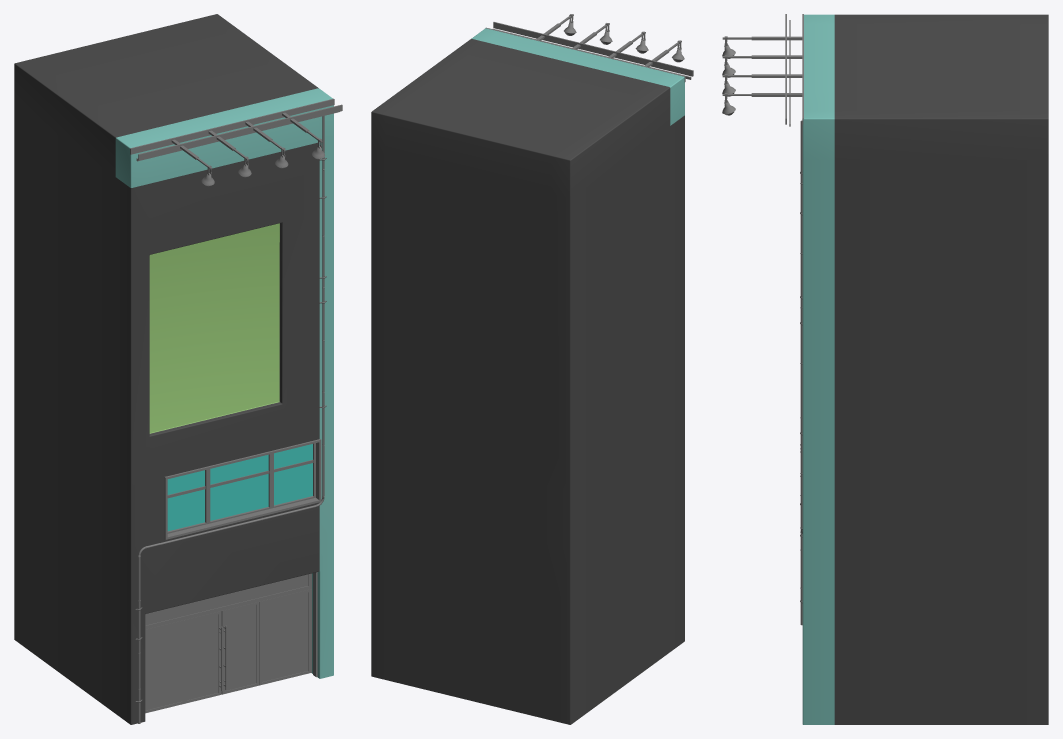
Rendered from SM_building_standard_06.fbx.
3 views of the same model, side by side, from view 1: azimuth 30°, elevation 25°; view 2: azimuth 150°, elevation 25°; view 3: azimuth 270°, elevation 25° (orthographic). The views are drawn at different scales.
Parts seen in each view (by area): view 1: Box203; view 2: Box203; view 3: Box203.
Boxes of the visible parts, x1,y1,x2,y2 form: Box203: [14, 14, 342, 724]; Box203: [371, 14, 693, 724]; Box203: [722, 14, 1048, 724].
Bounding box in the file's own units: 264 × 715 × 349.
